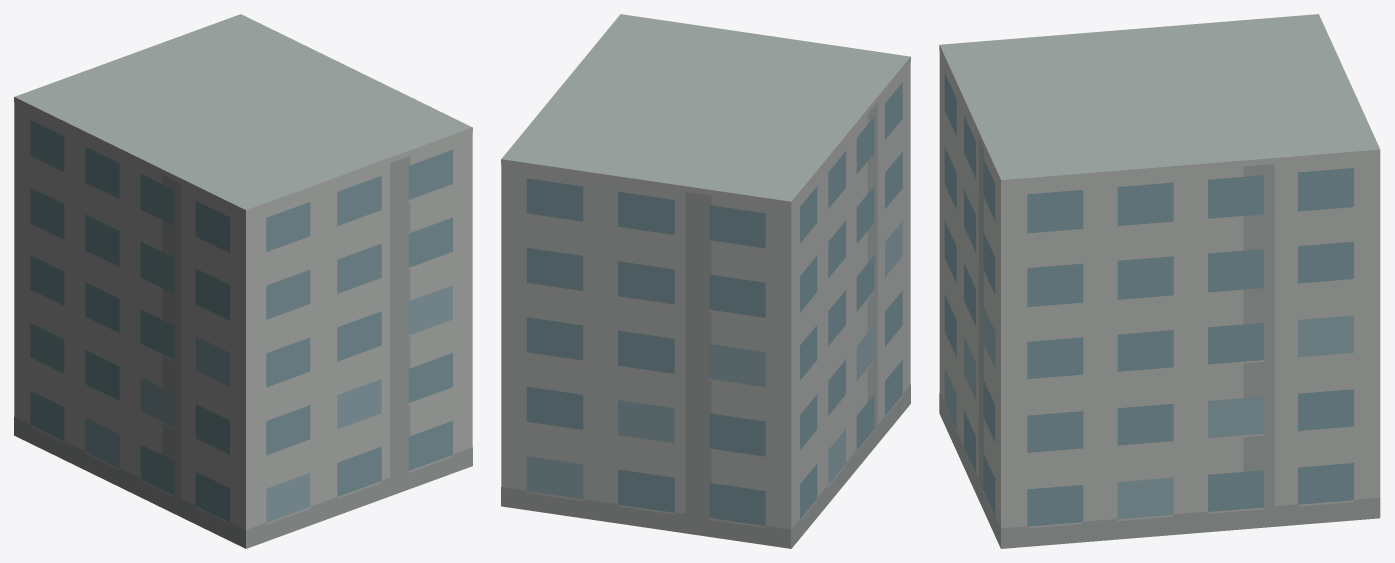
Rendered from residential-e0fcfa2e-04b1-4aff-820f-83a81828cb48.glb.
3 views of the same model, side by side, from view 1: azimuth 30°, elevation 25°; view 2: azimuth 150°, elevation 25°; view 3: azimuth 270°, elevation 25° (orthographic). The views are drawn at different scales.
Visible parts, largest first — view 1: residential-e0fcfa2e-04b1-4aff-820f-83a81828cb48.tmp; view 2: residential-e0fcfa2e-04b1-4aff-820f-83a81828cb48.tmp; view 3: residential-e0fcfa2e-04b1-4aff-820f-83a81828cb48.tmp.
Part boxes in pixels (x1,y1,x2,y2): residential-e0fcfa2e-04b1-4aff-820f-83a81828cb48.tmp: (14,14,472,548); residential-e0fcfa2e-04b1-4aff-820f-83a81828cb48.tmp: (501,14,910,548); residential-e0fcfa2e-04b1-4aff-820f-83a81828cb48.tmp: (939,14,1380,548).
Bounding box in the file's own units: 14.74 × 15.25 × 16.53.
